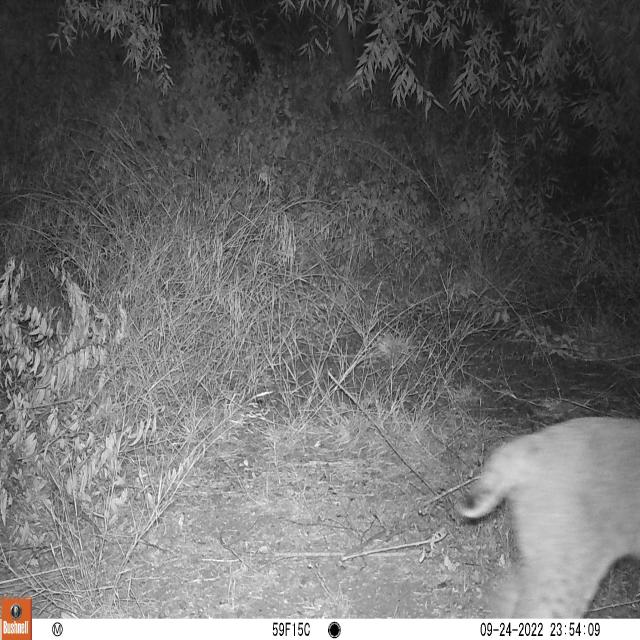Wildcat: (451, 410, 640, 618)
